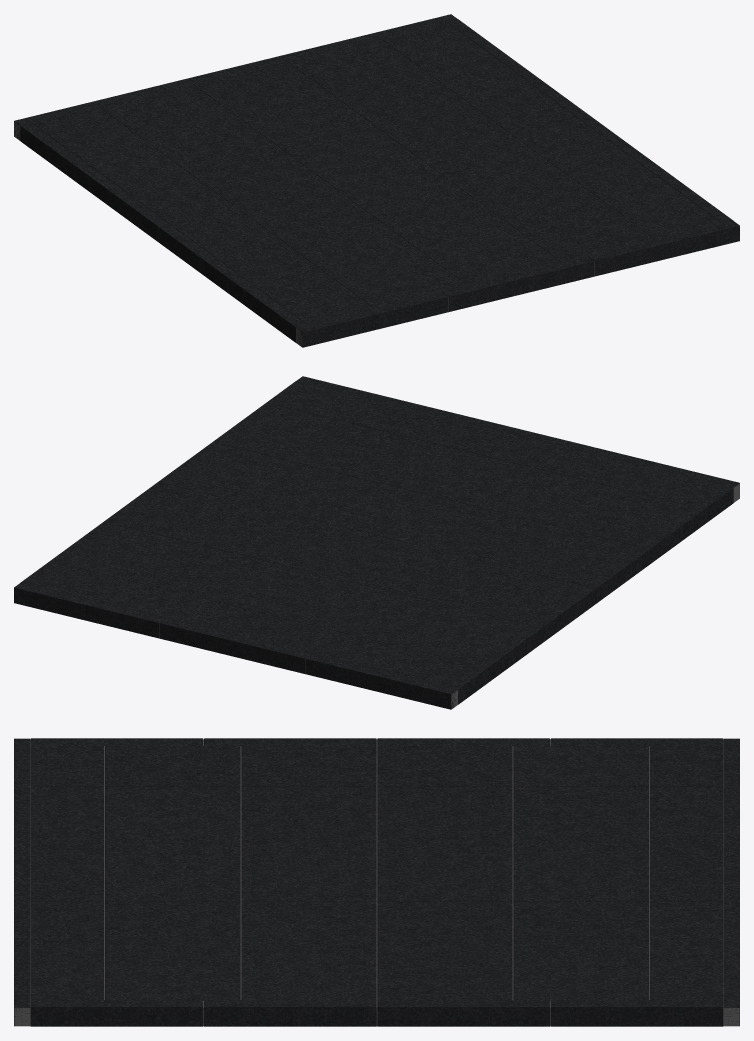
The model's file is floor-black-wide.glb.
3 renders of one model, top to bottom at view 1: azimuth 30°, elevation 25°; view 2: azimuth 150°, elevation 25°; view 3: azimuth 270°, elevation 25°, orthographic. The views are drawn at different scales.
Parts seen in each view (by area): view 1: Stone_field_black, Stone_edge_black; view 2: Stone_field_black, Stone_edge_black; view 3: Stone_field_black, Stone_edge_black, Joint_and_bedding_black.
Part boxes in pixels (left/top/right/bottom): Stone_field_black: left=32, top=22, right=721, bottom=324; Stone_edge_black: left=14, top=14, right=739, bottom=347; Stone_field_black: left=32, top=384, right=721, bottom=686; Stone_edge_black: left=14, top=376, right=739, bottom=709; Stone_field_black: left=30, top=745, right=723, bottom=1000; Stone_edge_black: left=14, top=738, right=739, bottom=1026; Joint_and_bedding_black: left=14, top=739, right=739, bottom=1026.
Bounding box in the file's own units: 2.8 × 0.096 × 3.2.
3 materials, 2 textured.
